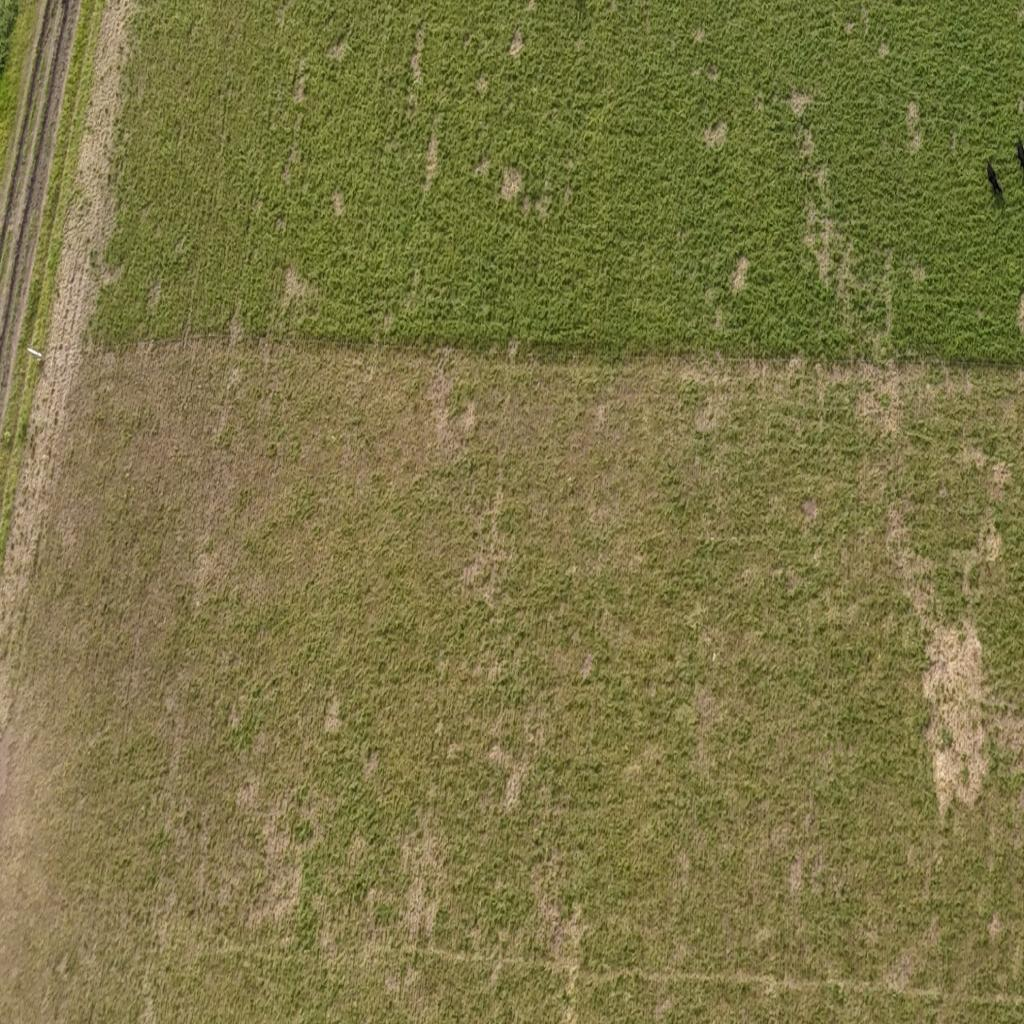cow: (984, 150, 1008, 202), (1008, 137, 1024, 182)
